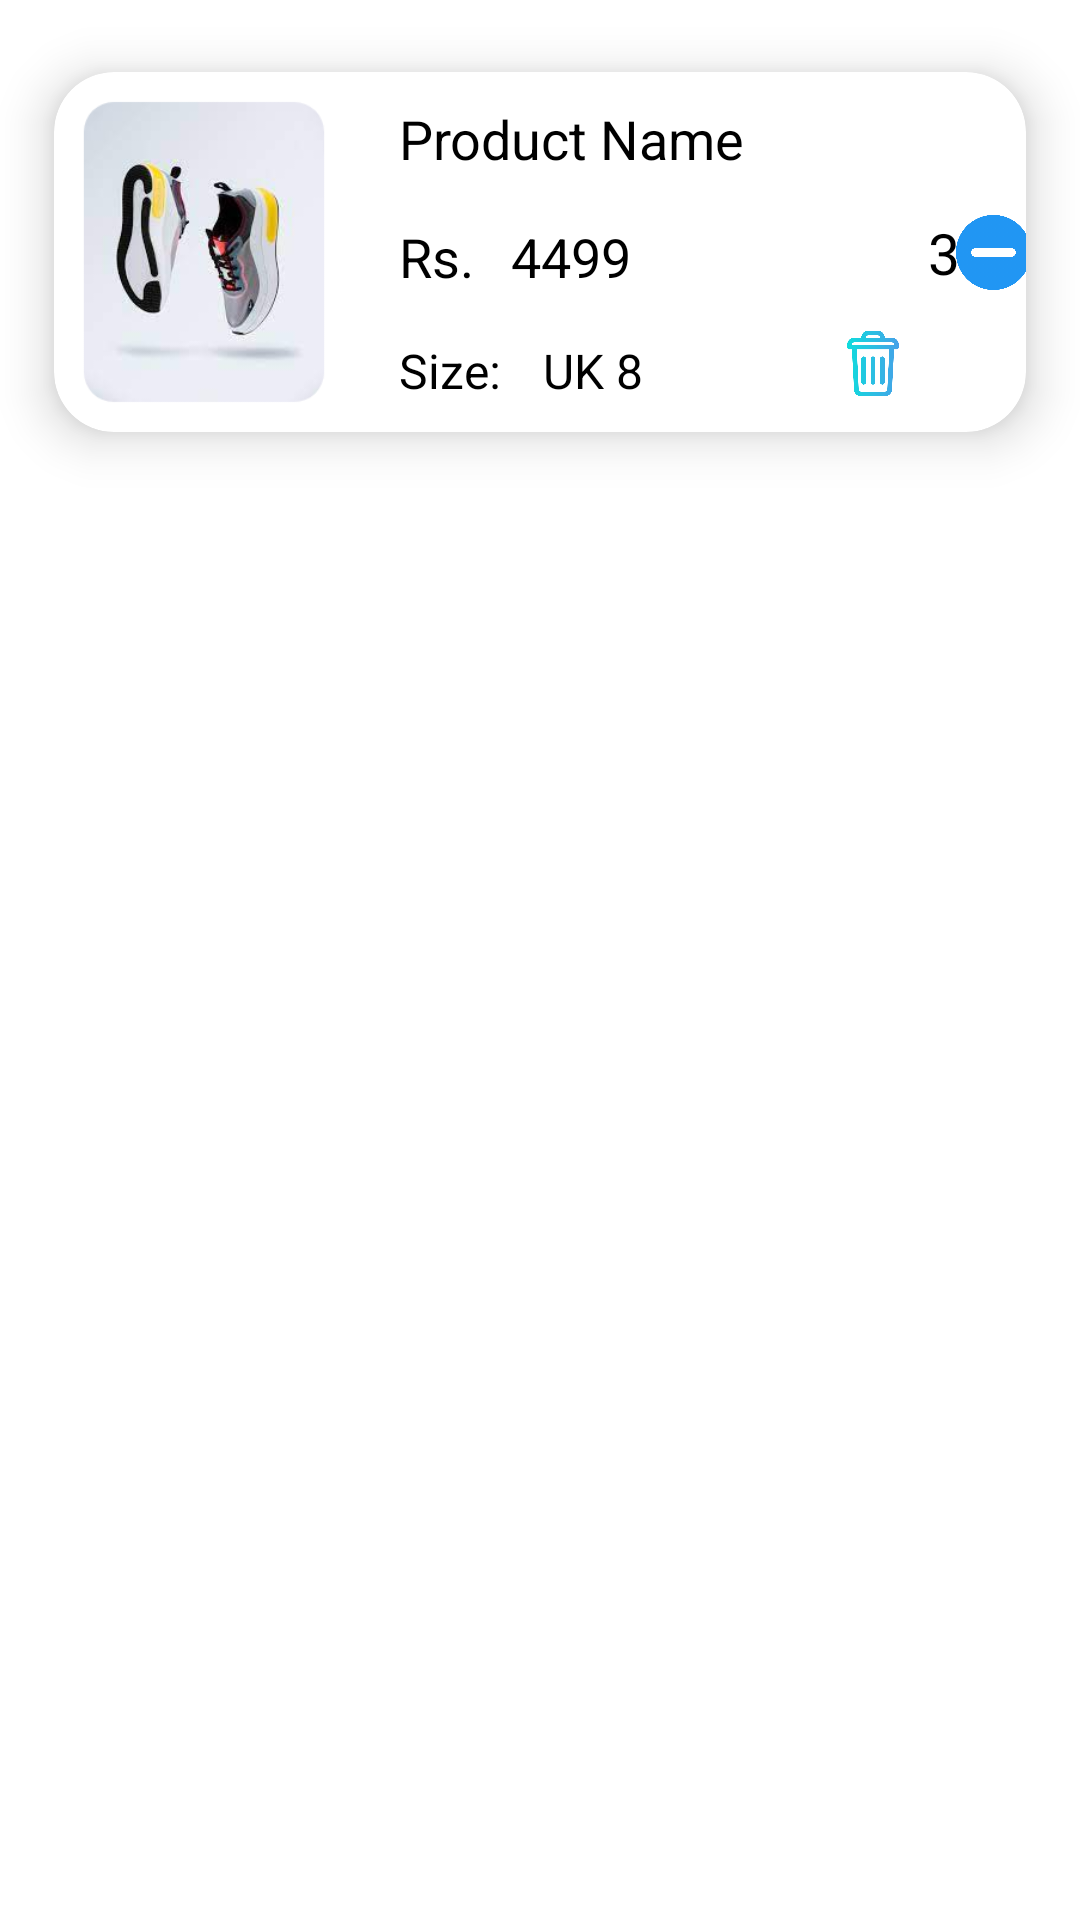

Icon bounding boxes for this 1080 x 1920 phone screenshot, format (x1, y1, x2, y2):
shoe: (54, 72, 324, 432)
